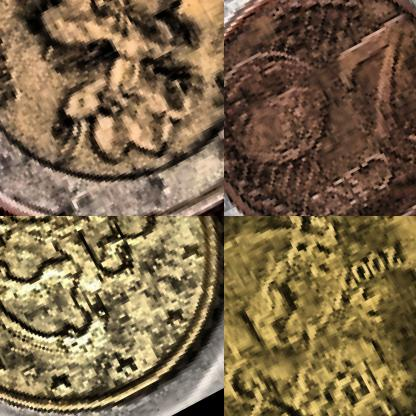coin: (0, 0, 223, 215), (0, 216, 223, 415), (224, 0, 415, 215), (224, 216, 415, 415)
